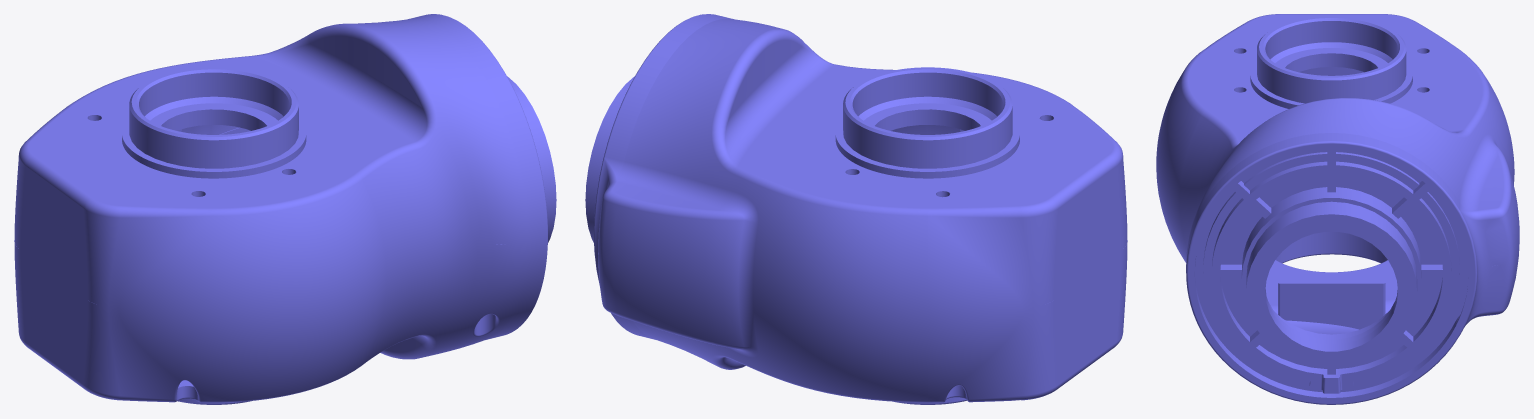
3 renders of one model, left to right at view 1: azimuth 30°, elevation 25°; view 2: azimuth 150°, elevation 25°; view 3: azimuth 270°, elevation 25°, orthographic. The views are drawn at different scales.
Visible parts, largest first — view 1: Brep (×2); view 2: Brep (×2); view 3: Brep (×2).
Part boxes in pixels (box(x1,y1,x2,y2)): Brep (×2): box(14, 14, 556, 404); Brep (×2): box(585, 14, 1127, 404); Brep (×2): box(1156, 14, 1519, 404).
Size of the model in its own units: 108 by 84.95 by 71.77.
